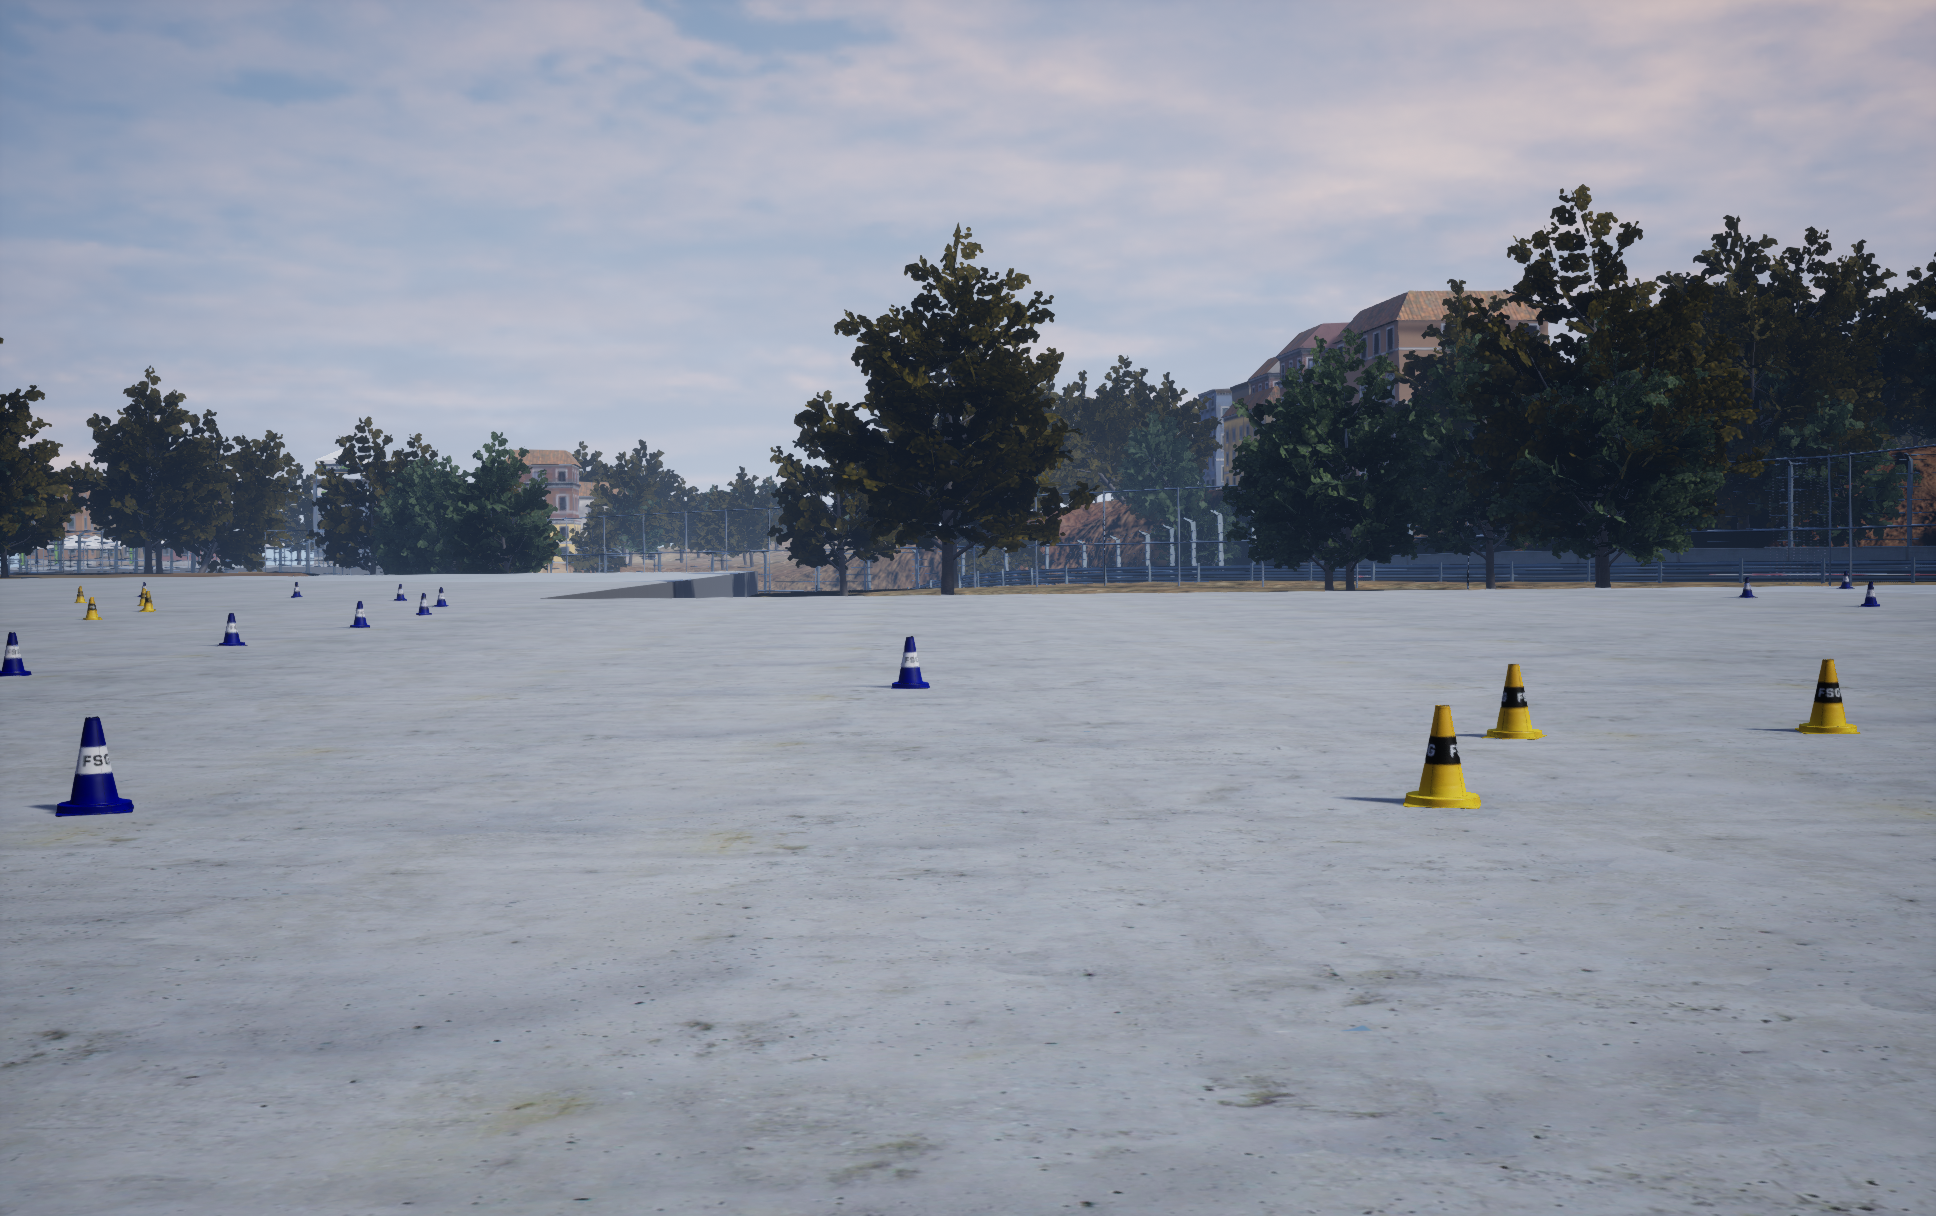blue: (1404, 705, 1479, 808), (1481, 664, 1547, 740), (1795, 658, 1860, 733), (83, 597, 102, 619), (139, 591, 155, 611)
yellow: (55, 716, 133, 815), (891, 636, 929, 688), (0, 632, 31, 677), (219, 614, 247, 644), (1859, 581, 1879, 607), (350, 601, 368, 628), (1738, 577, 1757, 597), (416, 593, 431, 615), (433, 587, 448, 607)
